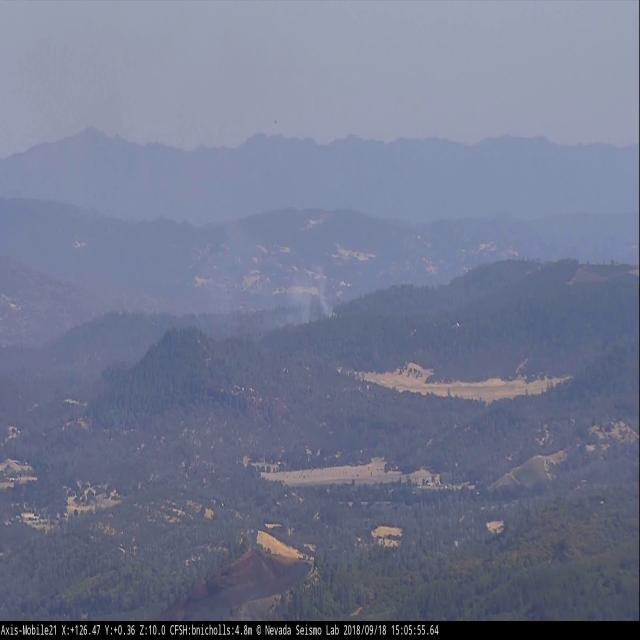smoke: (193, 216, 339, 337)
